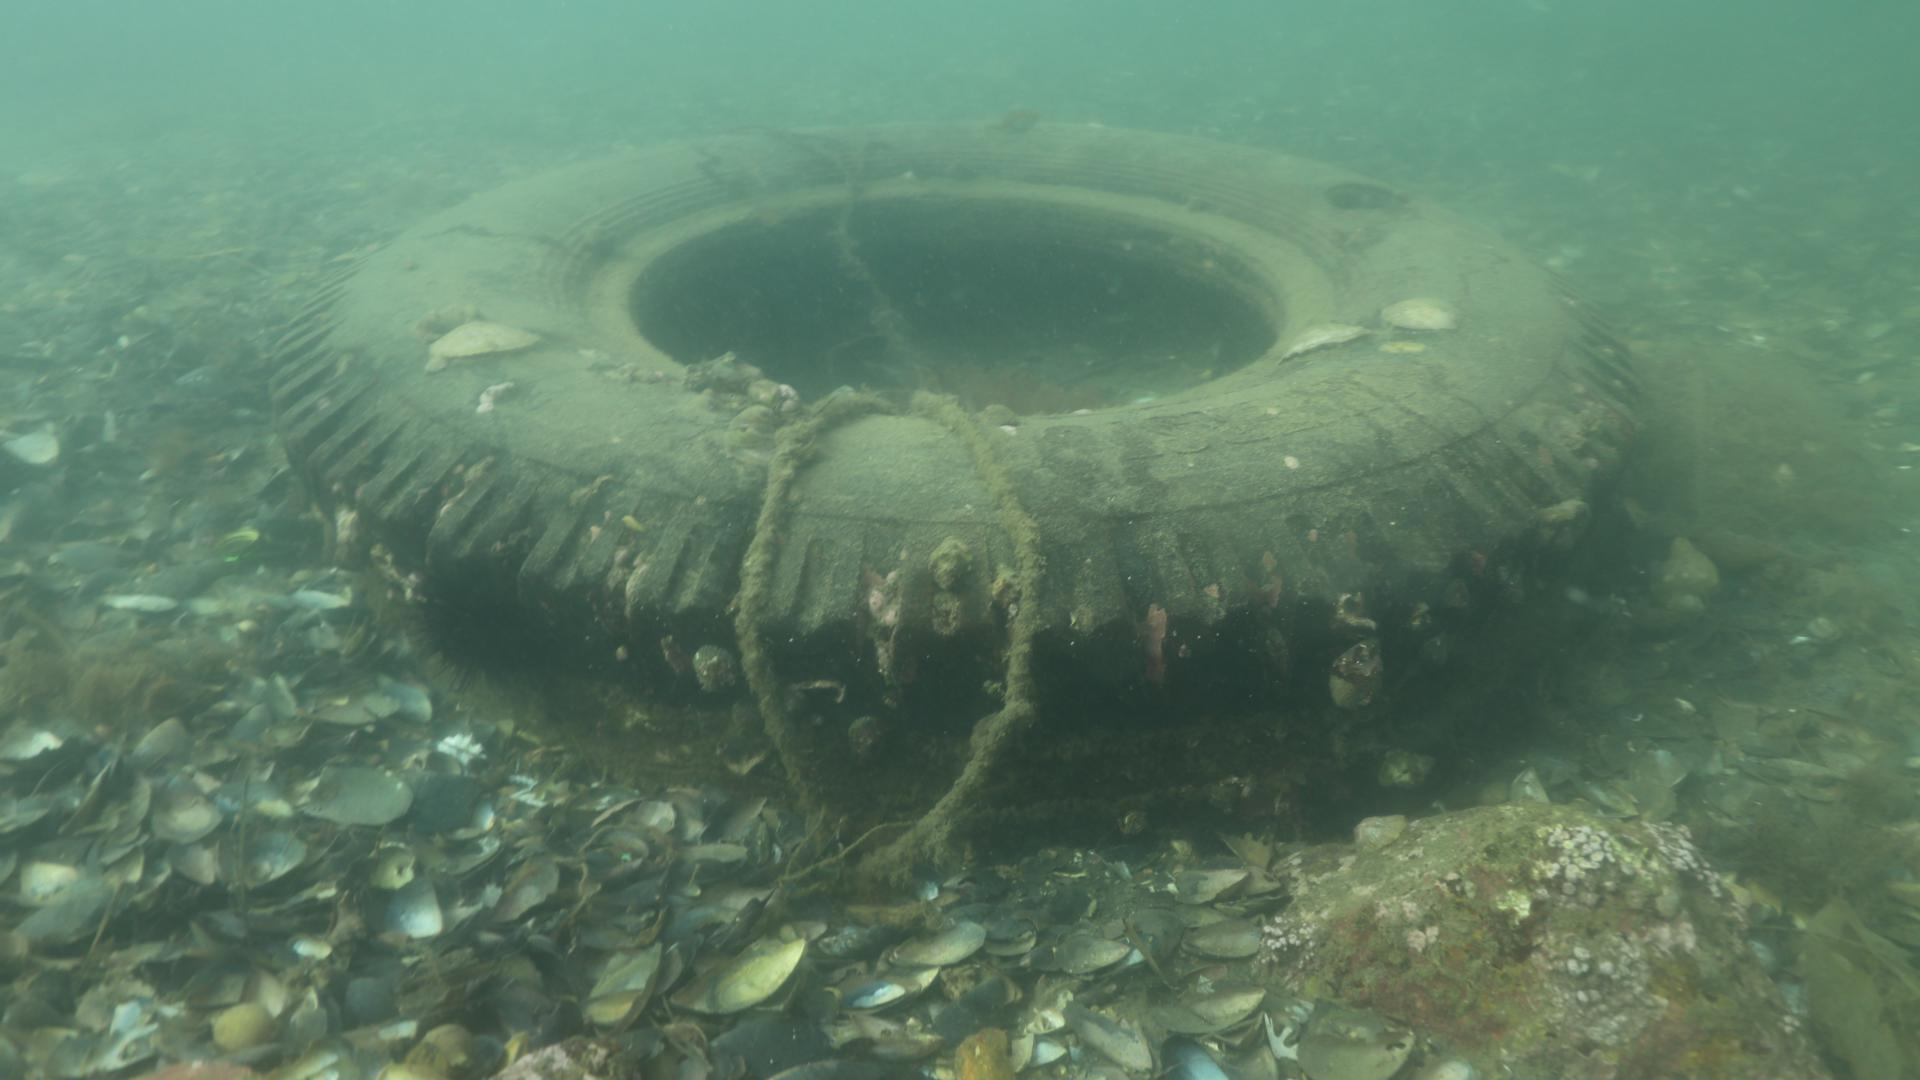bundle of ropes: (733, 384, 1044, 877)
tire: (269, 117, 1644, 843)
